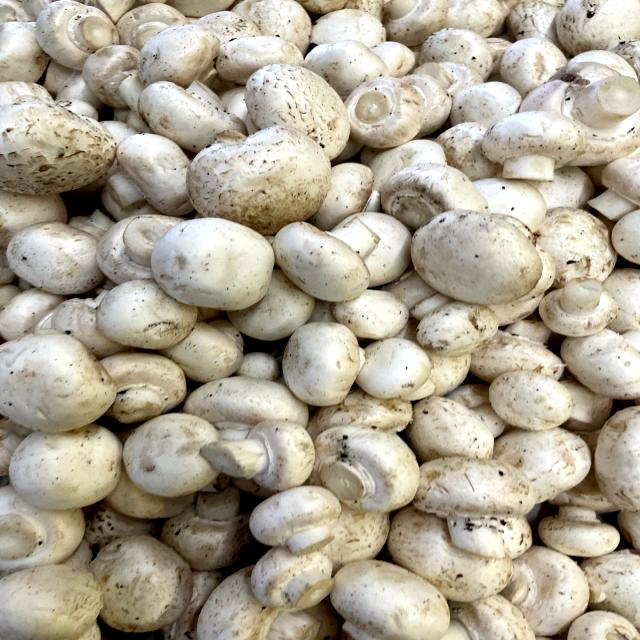mushroom: (400, 198, 552, 314), (406, 441, 538, 562), (140, 214, 287, 317), (304, 414, 424, 523), (187, 404, 313, 493), (474, 102, 598, 187), (238, 476, 354, 562)
